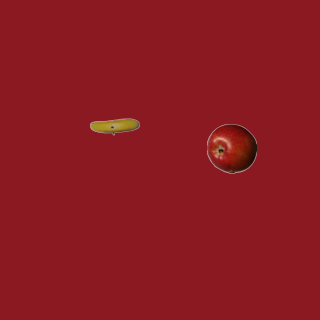Apple Braeburn: (206, 123, 256, 173)
Banana: (89, 101, 139, 151)
